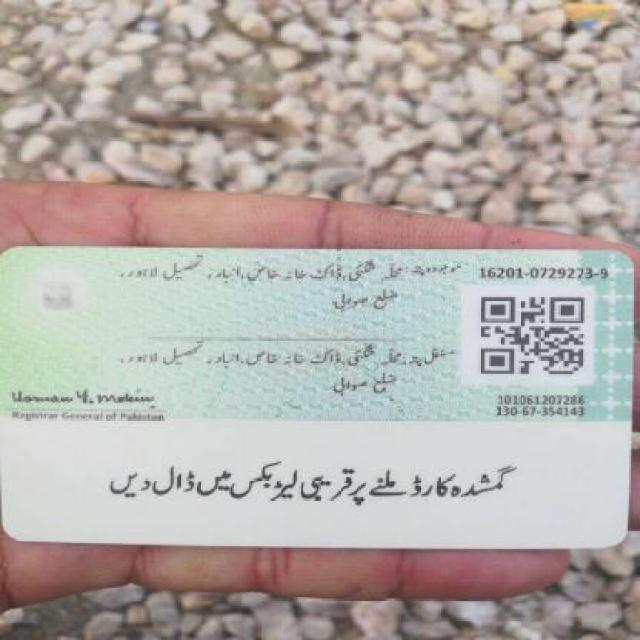Back: (3, 242, 637, 552)
